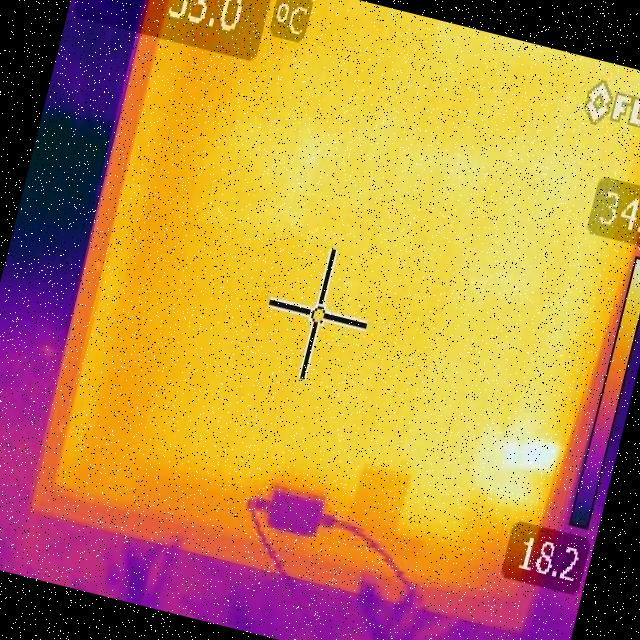Hotspot: (497, 427, 562, 482)
